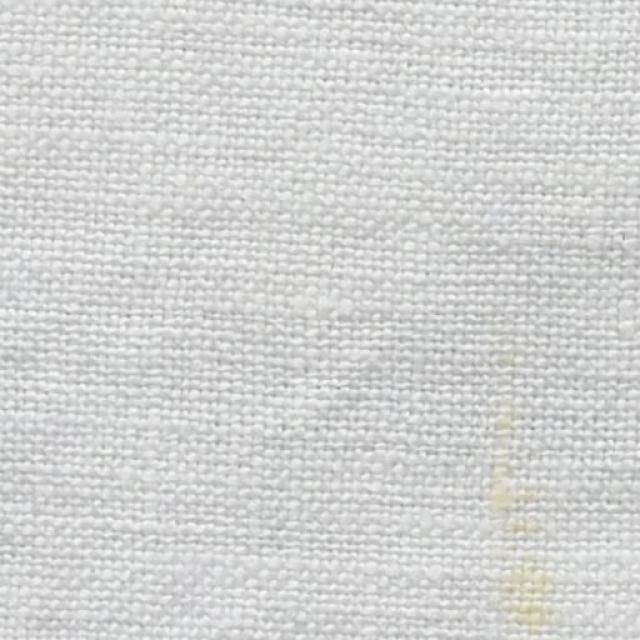Stain: (490, 465, 550, 639)
